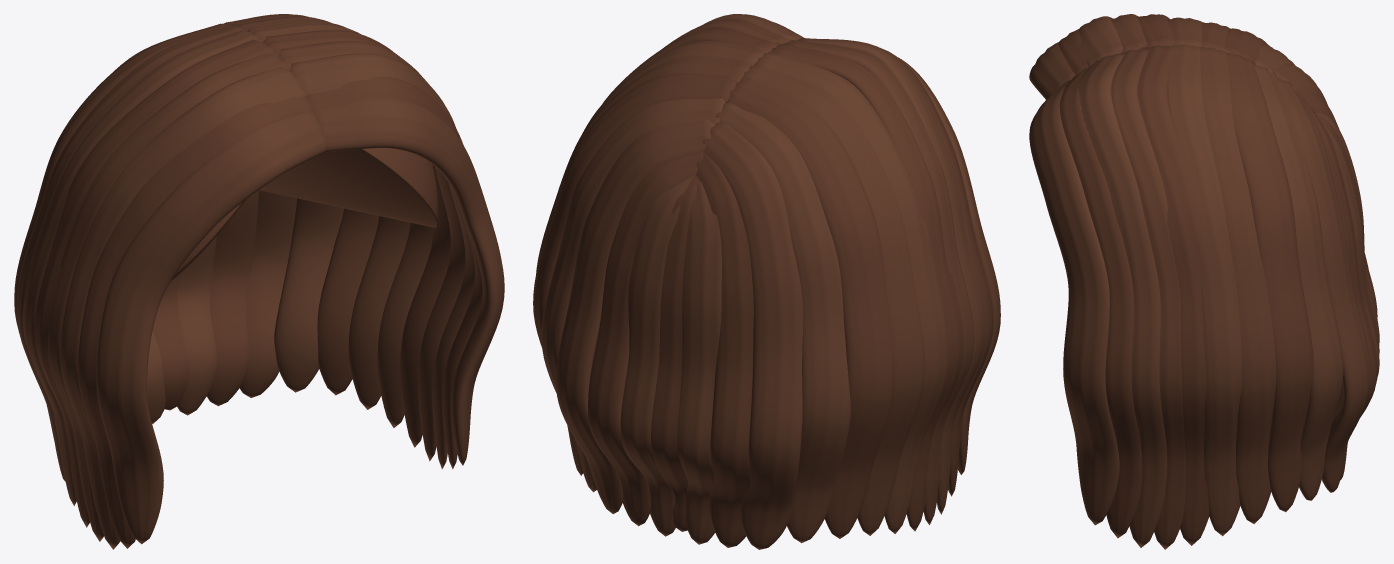
Rendered from hair-waves-grooved.glb.
3 renders of one model, left to right at view 1: azimuth 30°, elevation 25°; view 2: azimuth 150°, elevation 25°; view 3: azimuth 270°, elevation 25°, orthographic. The views are drawn at different scales.
Visible parts, largest first — view 1: Hair / waves -1 0, Hair / waves 1 0, Hair / waves -1 2, Hair / waves -1 1, Recessed roots, Hair / waves -1 3, Hair / waves -1 4, Hair / waves 1 8, Hair / waves -1 5, Hair / waves 1 10, Hair / waves 1 9, Hair / waves 1 2 (+11 smaller); view 2: Hair / waves -1 9, Hair / waves -1 7, Hair / waves -1 8, Hair / waves -1 6, Hair / waves 1 9, Hair / waves -1 10, Hair / waves -1 5, Hair / waves -1 11, Hair / waves 1 10, Hair / waves 1 11, Hair / waves -1 4, Hair / waves 1 8 (+11 smaller); view 3: Hair / waves 1 0, Hair / waves 1 7, Hair / waves 1 5, Hair / waves 1 6, Hair / waves 1 2, Hair / waves 1 4, Hair / waves 1 3, Hair / waves 1 1, Hair / waves 1 8, Hair / waves 1 9, Hair / waves 1 10, Hair / waves 1 11 (+13 smaller).
Part boxes in pixels (bbox=[...]): Hair / waves -1 0: bbox=[96, 111, 326, 544]; Hair / waves 1 0: bbox=[314, 98, 504, 465]; Hair / waves -1 2: bbox=[60, 66, 305, 549]; Hair / waves -1 1: bbox=[78, 96, 314, 548]; Recessed roots: bbox=[170, 148, 437, 281]; Hair / waves -1 3: bbox=[48, 53, 287, 541]; Hair / waves -1 4: bbox=[34, 39, 278, 527]; Hair / waves 1 8: bbox=[274, 198, 343, 392]; Hair / waves -1 5: bbox=[22, 30, 262, 505]; Hair / waves 1 10: bbox=[206, 190, 258, 406]; Hair / waves 1 9: bbox=[239, 190, 296, 397]; Hair / waves 1 2: bbox=[290, 53, 475, 469]; Hair / waves -1 9: bbox=[702, 121, 802, 549]; Hair / waves -1 7: bbox=[726, 77, 894, 538]; Hair / waves -1 8: bbox=[715, 102, 850, 543]; Hair / waves -1 6: bbox=[740, 63, 924, 535]; Hair / waves 1 9: bbox=[556, 119, 715, 513]; Hair / waves -1 10: bbox=[696, 151, 753, 547]; Hair / waves -1 5: bbox=[756, 50, 948, 533]; Hair / waves -1 11: bbox=[677, 175, 721, 544]; Hair / waves 1 10: bbox=[588, 152, 703, 526]; Hair / waves 1 11: bbox=[620, 175, 694, 536]; Hair / waves -1 4: bbox=[771, 43, 963, 531]; Hair / waves 1 8: bbox=[541, 98, 725, 492]; Hair / waves 1 0: bbox=[1029, 77, 1119, 525]; Hair / waves 1 7: bbox=[1226, 53, 1313, 511]; Hair / waves 1 5: bbox=[1168, 44, 1242, 536]; Hair / waves 1 6: bbox=[1200, 47, 1276, 523]; Hair / waves 1 2: bbox=[1078, 53, 1167, 547]; Hair / waves 1 4: bbox=[1138, 45, 1209, 545]; Hair / waves 1 3: bbox=[1111, 49, 1185, 549]; Hair / waves 1 1: bbox=[1059, 67, 1142, 538]; Hair / waves 1 8: bbox=[1254, 64, 1343, 500]; Hair / waves 1 9: bbox=[1276, 78, 1371, 492]; Hair / waves 1 10: bbox=[1301, 96, 1377, 480]; Hair / waves 1 11: bbox=[1318, 116, 1379, 426].
Bounding box in the file's own units: 1.21 × 1.27 × 0.9366.
